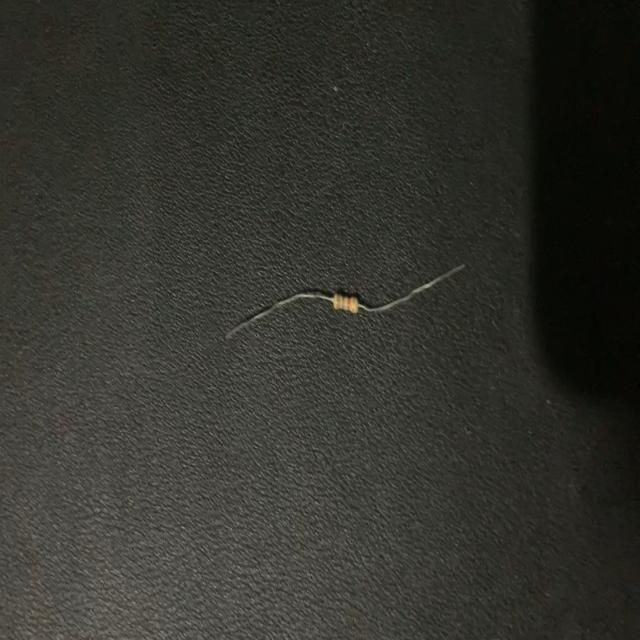resistor: (228, 264, 464, 334)
